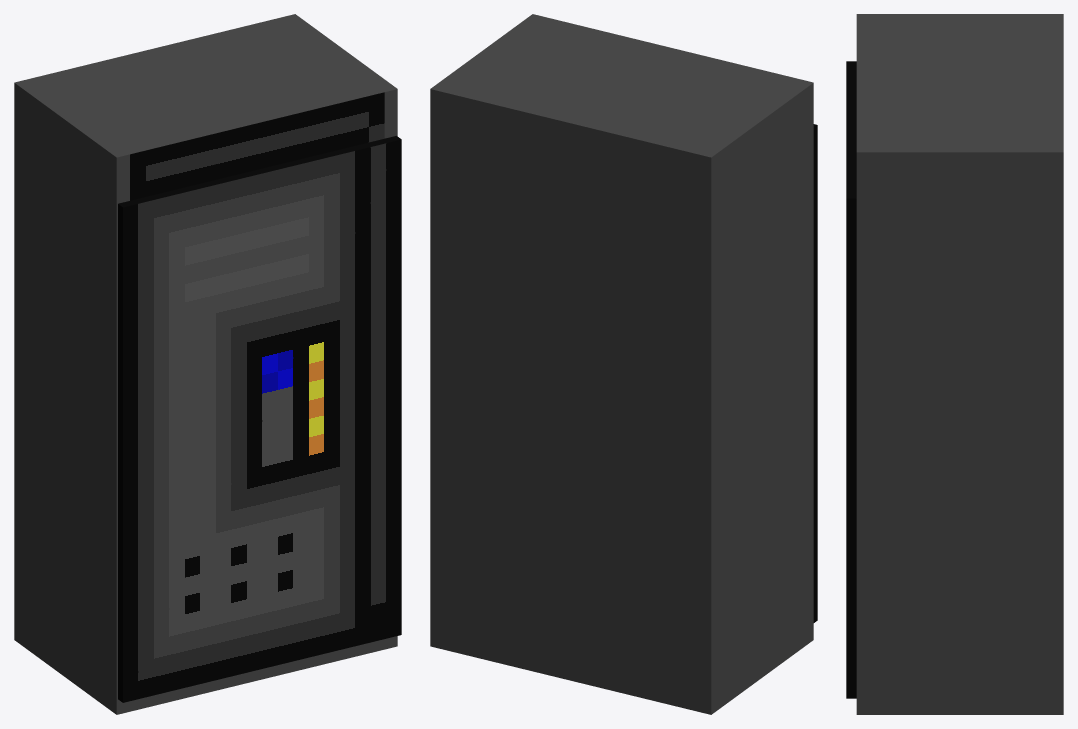
File: old_locker.glb
3 renders of one model, left to right at view 1: azimuth 30°, elevation 25°; view 2: azimuth 150°, elevation 25°; view 3: azimuth 270°, elevation 25°, orthographic.
Parts seen in each view (by area): view 1: old_locker_Door_Left, old_locker_Body; view 2: old_locker_Body, old_locker_Door_Left; view 3: old_locker_Body, old_locker_Door_Left.
Boxes of the visible parts, x1,y1,x2,y2 form: old_locker_Door_Left: [118, 136, 401, 702]; old_locker_Body: [14, 14, 397, 714]; old_locker_Body: [430, 14, 813, 714]; old_locker_Door_Left: [813, 124, 817, 622]; old_locker_Body: [856, 14, 1063, 714]; old_locker_Door_Left: [846, 61, 856, 698].
Size of the model in its own units: 0.95 by 1.8 by 0.63.
Materials: 1 (1 with a texture image).
